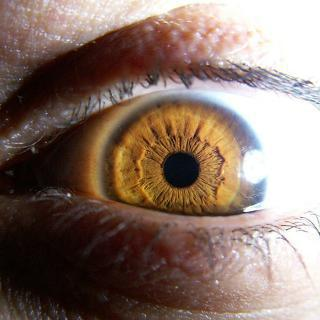iris: (101, 92, 263, 254)
